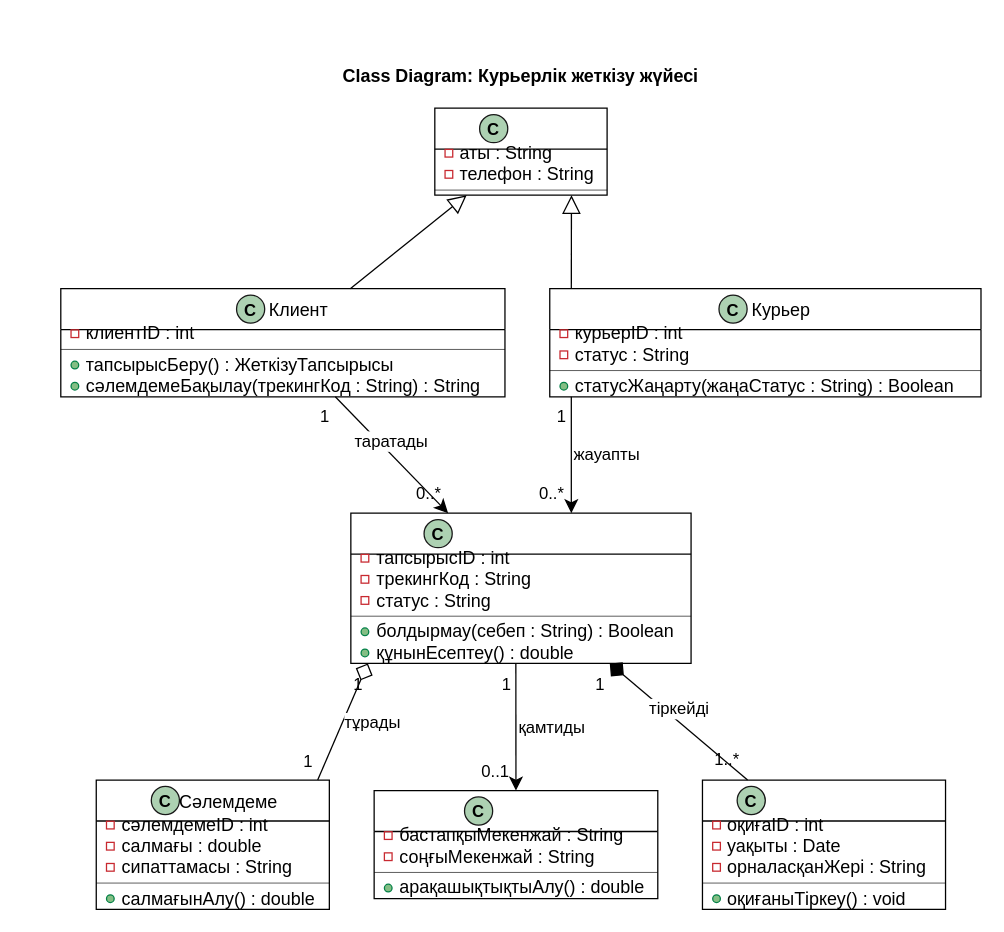
Some shapes in this 1004 by 932 pixel diagram are drawn without their labels. Each missing label, with the box of its shape:
БақылауОқиғасы: (701, 779, 946, 909)
ЖеткізуТапсырысы: (350, 512, 691, 663)
Маршрут: (373, 789, 658, 899)
Тұлға: (434, 107, 607, 195)
